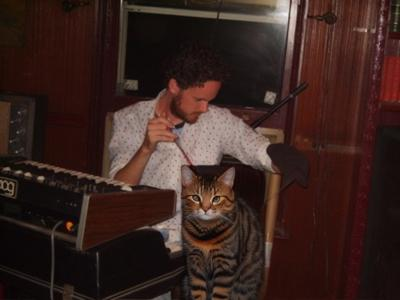cat: (181, 165, 265, 300)
person: (110, 44, 312, 300)
